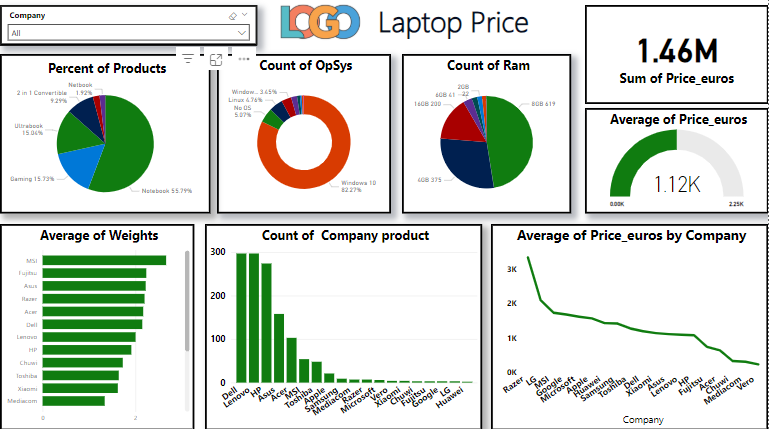

This screenshot's page, from the dashboard's own definition file:
{"tool":"powerbi","page":{"name":"Page 1","canvas":[1280,720],"ordinal":0},"visuals":[{"type":"lineChart","fields":{"Category":["laptop_price.Company"],"Y":["Avg(laptop_price.Price_euros)"]},"box":[818.1,376.3,461.9,344.4],"z":0},{"type":"lineClusteredColumnComboChart","title":"Count of  Company product","fields":{"Category":["laptop_price.Company"],"Y":["CountNonNull(laptop_price.Company)"]},"box":[341,376.3,461.9,344.4],"z":1000},{"type":"pieChart","title":"Percent of Products","fields":{"Category":["laptop_price.TypeName"],"Y":["CountNonNull(laptop_price.TypeName)"]},"box":[0,94.1,351,265.9],"z":2000},{"type":"gauge","fields":{"Y":["Avg(laptop_price.Price_euros)"]},"box":[974.3,183.1,305.7,176.4],"z":3000},{"type":"card","fields":{"Values":["Sum(laptop_price.Price_euros)"]},"box":[974.3,11.8,305.7,164.6],"z":4000},{"type":"pieChart","title":"Count of Ram ","fields":{"Category":["laptop_price.Ram"],"Y":["CountNonNull(laptop_price.Ram)"]},"box":[669.2,94.1,282.3,265.9],"z":5000},{"type":"donutChart","title":"Count of OpSys","fields":{"Category":["laptop_price.OpSys"],"Y":["CountNonNull(laptop_price.OpSys)"]},"box":[361.5,94.1,289.8,265.9],"z":6000},{"type":"clusteredBarChart","title":"Average of Weights","fields":{"Category":["laptop_price.Company"],"Y":["Avg(laptop_price.Weight)"]},"box":[0,376.4,324.1,343.6],"z":7000},{"type":"slicer","fields":{"Values":["laptop_price.Company"]},"box":[0,12,428.7,67.2],"z":8000},{"type":"textbox","box":[560.2,0,391.4,79.2],"z":9000},{"type":"image","box":[442.2,0,182.2,79.2],"z":10000}]}

Visuals, with their boxes in screenshot pixels (x1, y1, x2, y2), scaled from the page's 1280x720 canvas onto the 769x429 screenshot:
lineChart - laptop_price.Company x Avg(laptop_price.Price_euros): <bbox>491, 224, 768, 428</bbox>
"Count of  Company product" lineClusteredColumnComboChart: <bbox>205, 224, 482, 428</bbox>
"Percent of Products" pieChart: <bbox>0, 56, 211, 214</bbox>
gauge - Avg(laptop_price.Price_euros): <bbox>585, 109, 768, 214</bbox>
card - Sum(laptop_price.Price_euros): <bbox>585, 7, 768, 105</bbox>
"Count of Ram " pieChart: <bbox>402, 56, 572, 214</bbox>
"Count of OpSys" donutChart: <bbox>217, 56, 391, 214</bbox>
"Average of Weights" clusteredBarChart: <bbox>0, 224, 195, 428</bbox>
slicer - laptop_price.Company: <bbox>0, 7, 258, 47</bbox>
textbox: <bbox>337, 0, 572, 47</bbox>
image: <bbox>266, 0, 375, 47</bbox>
